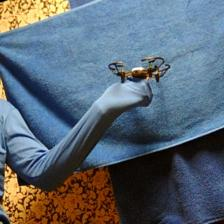drone: (106, 57, 172, 84)
